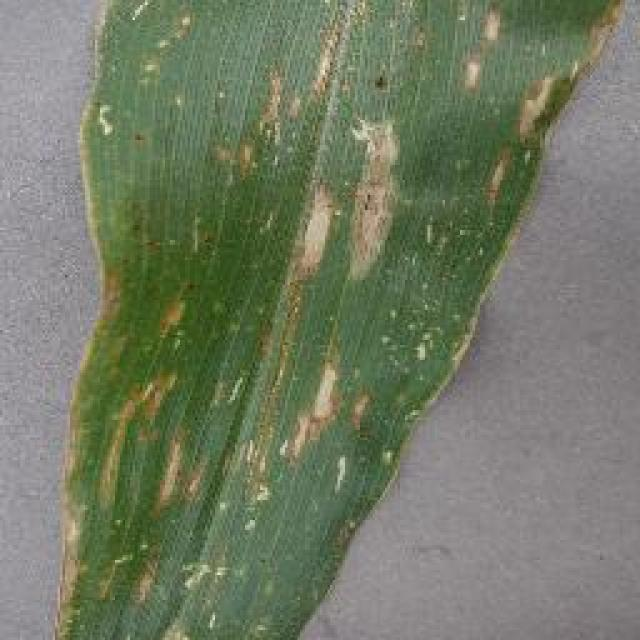Corn___Cercospora_leaf_spot Gray_leaf_spot: (15, 0, 635, 640)
